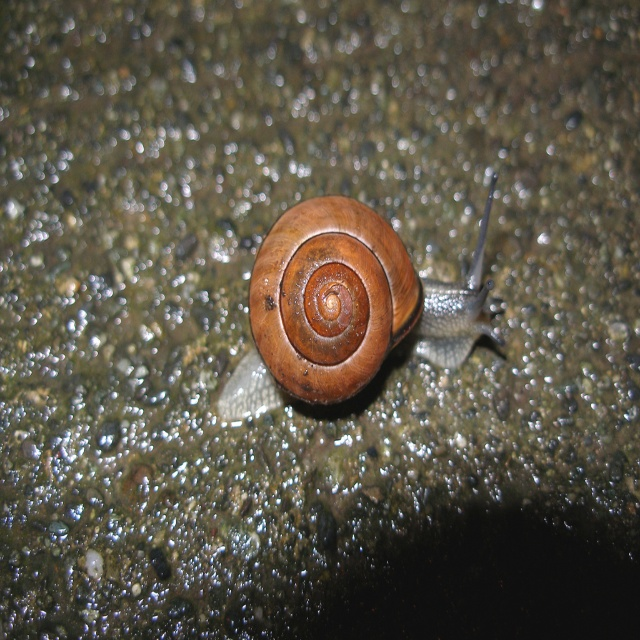Snail: (211, 169, 508, 427)
